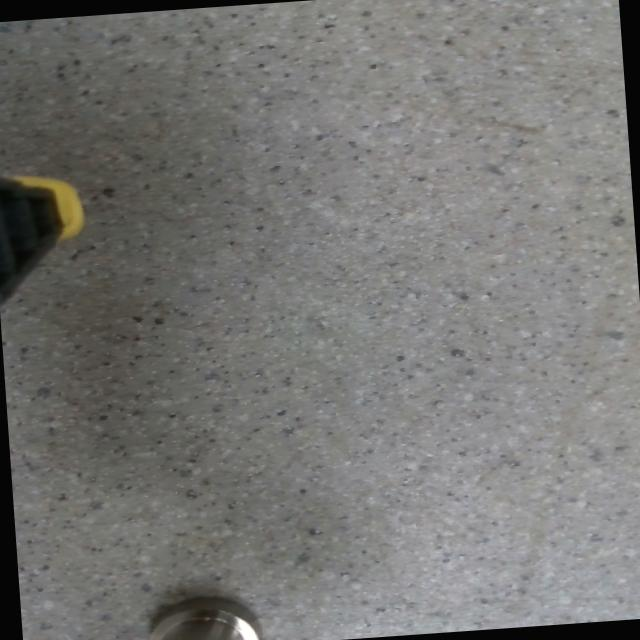sensor: (141, 591, 264, 640)
